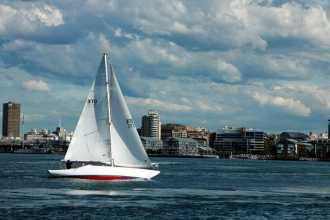fanchuan: (44, 46, 164, 183)
